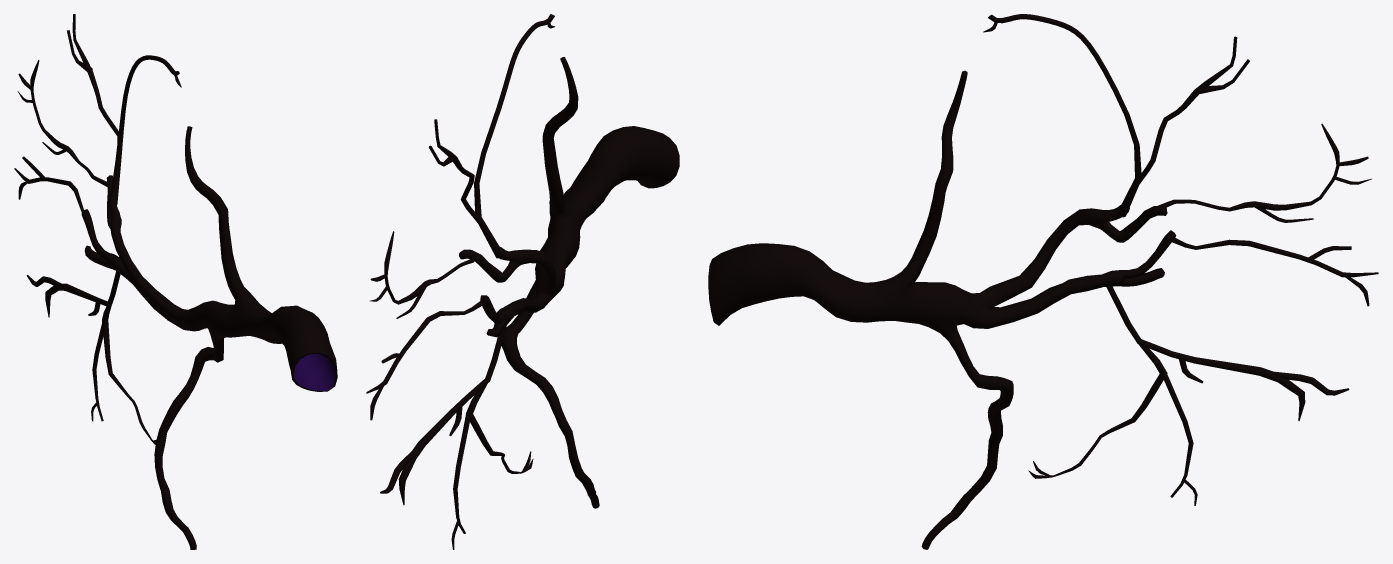
The model's file is Vena_Completo.glb.
The picture shows the model from 3 angles, left to right: view 1: azimuth 30°, elevation 25°; view 2: azimuth 150°, elevation 25°; view 3: azimuth 270°, elevation 25°; orthographic projection. The views are drawn at different scales.
Parts seen in each view (by area): view 1: VENA_CORTE.001; view 2: VENA_CORTE.001; view 3: VENA_CORTE.001.
Part boxes in pixels (x1,y1,x2,y2): VENA_CORTE.001: (14,14,337,549); VENA_CORTE.001: (366,14,679,549); VENA_CORTE.001: (708,14,1378,549).
Size of the model in its own units: 0.4088 by 2.16 by 2.42.
1 material, 1 textured.
